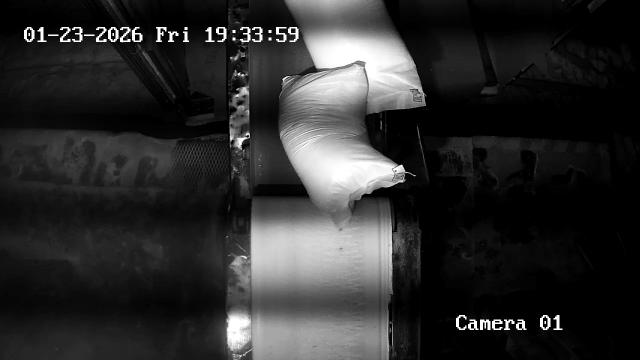bag: (279, 60, 409, 226), (284, 0, 426, 116)
